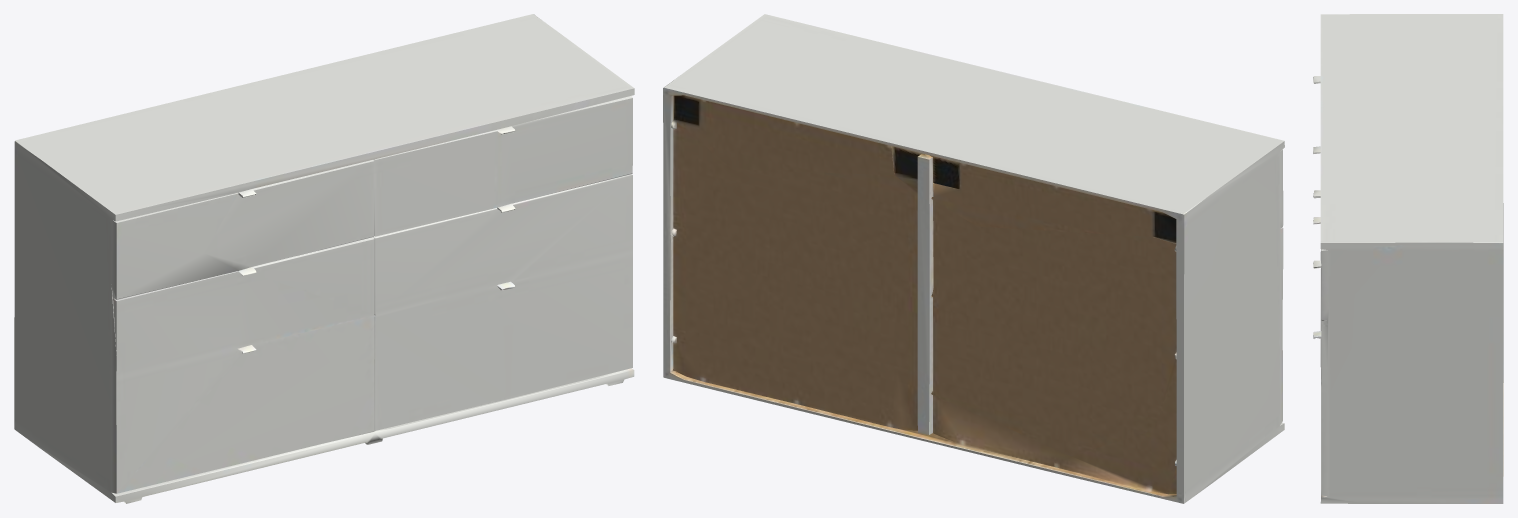
The model's file is 18 - VIHALS Chest of 6 drawers - whiteanchorunlock-function 140x47x75 cm.glb.
3 renders of one model, left to right at view 1: azimuth 30°, elevation 25°; view 2: azimuth 150°, elevation 25°; view 3: azimuth 270°, elevation 25°, orthographic. The views are drawn at different scales.
Parts seen in each view (by area): view 1: ProcessedMeshNode; view 2: ProcessedMeshNode; view 3: ProcessedMeshNode.
Boxes of the visible parts, x1,y1,x2,y2 form: ProcessedMeshNode: (14, 14, 634, 503); ProcessedMeshNode: (663, 14, 1284, 503); ProcessedMeshNode: (1313, 14, 1503, 503).
Bounding box in the file's own units: 1.4 × 0.7515 × 0.4907.
1 material, 1 textured.
